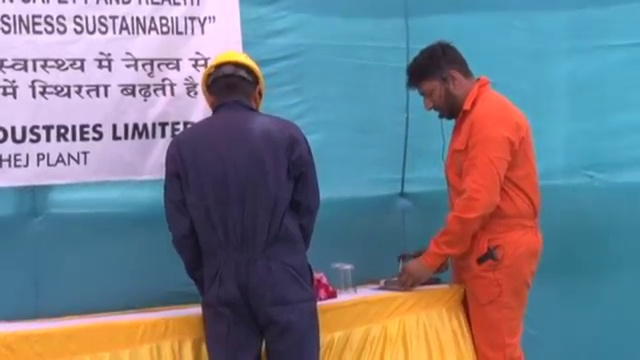helmet: (199, 50, 265, 101)
helmet_off: (407, 40, 475, 125)
helmet_on: (198, 51, 267, 115)
person: (162, 50, 324, 360), (397, 40, 547, 360)
